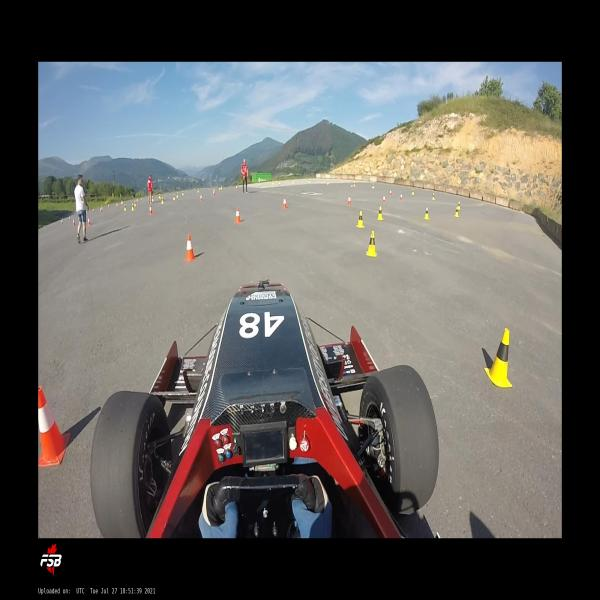orange_cone: (38, 387, 70, 466), (185, 234, 197, 262), (234, 207, 242, 223), (282, 197, 287, 209), (348, 196, 352, 205), (382, 195, 386, 203), (87, 217, 91, 225), (149, 205, 152, 215), (72, 218, 76, 225), (389, 189, 392, 196), (200, 194, 202, 202), (400, 193, 402, 200), (61, 220, 63, 224), (100, 208, 102, 212), (116, 204, 118, 207), (108, 204, 109, 208), (351, 185, 352, 189), (213, 192, 214, 195), (214, 190, 215, 193), (236, 186, 237, 189), (121, 202, 122, 204), (70, 217, 70, 220)
yellow_cone: (484, 328, 513, 387), (366, 231, 377, 257), (356, 211, 365, 228), (377, 206, 384, 220), (423, 206, 430, 220), (454, 206, 459, 218), (458, 201, 460, 210), (124, 203, 126, 211), (132, 203, 134, 211), (432, 193, 434, 200), (134, 200, 136, 207), (412, 189, 414, 195), (173, 194, 175, 200), (44, 225, 46, 231), (372, 183, 374, 188), (159, 194, 161, 199), (182, 190, 184, 195), (220, 185, 222, 190), (353, 183, 355, 187), (327, 180, 329, 184), (162, 197, 163, 204), (177, 192, 178, 198), (152, 196, 153, 202), (198, 189, 199, 193), (309, 180, 310, 184), (137, 198, 138, 201), (93, 209, 94, 212), (102, 206, 102, 209)
